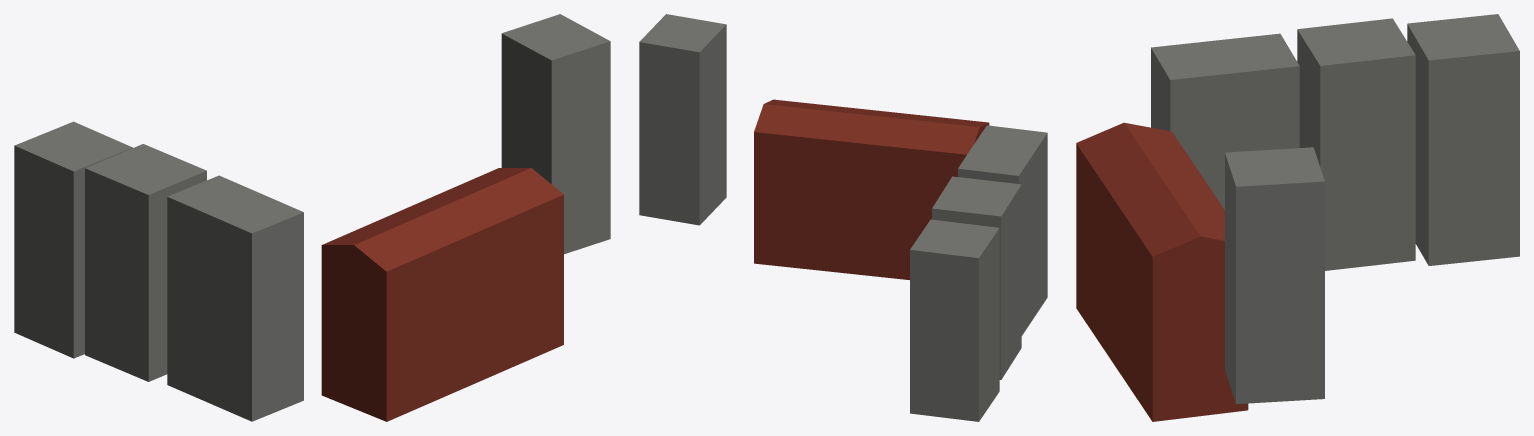
Rendered from near-15-27349-14864.c09aba4f.glb.
3 views of the same model, side by side, from view 1: azimuth 30°, elevation 25°; view 2: azimuth 150°, elevation 25°; view 3: azimuth 270°, elevation 25° (orthographic). The views are drawn at different scales.
Bounding box in the file's own units: 59.11 × 31.1 × 43.36.
